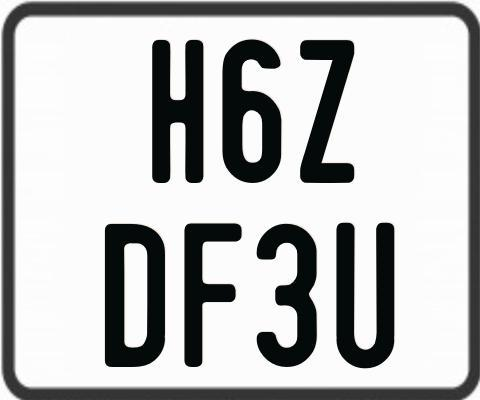3: (254, 223, 314, 369)
6: (220, 36, 279, 180)
D: (103, 224, 164, 372)
F: (184, 222, 243, 369)
H: (151, 37, 205, 182)
U: (334, 223, 393, 369)
Z: (297, 40, 354, 183)
